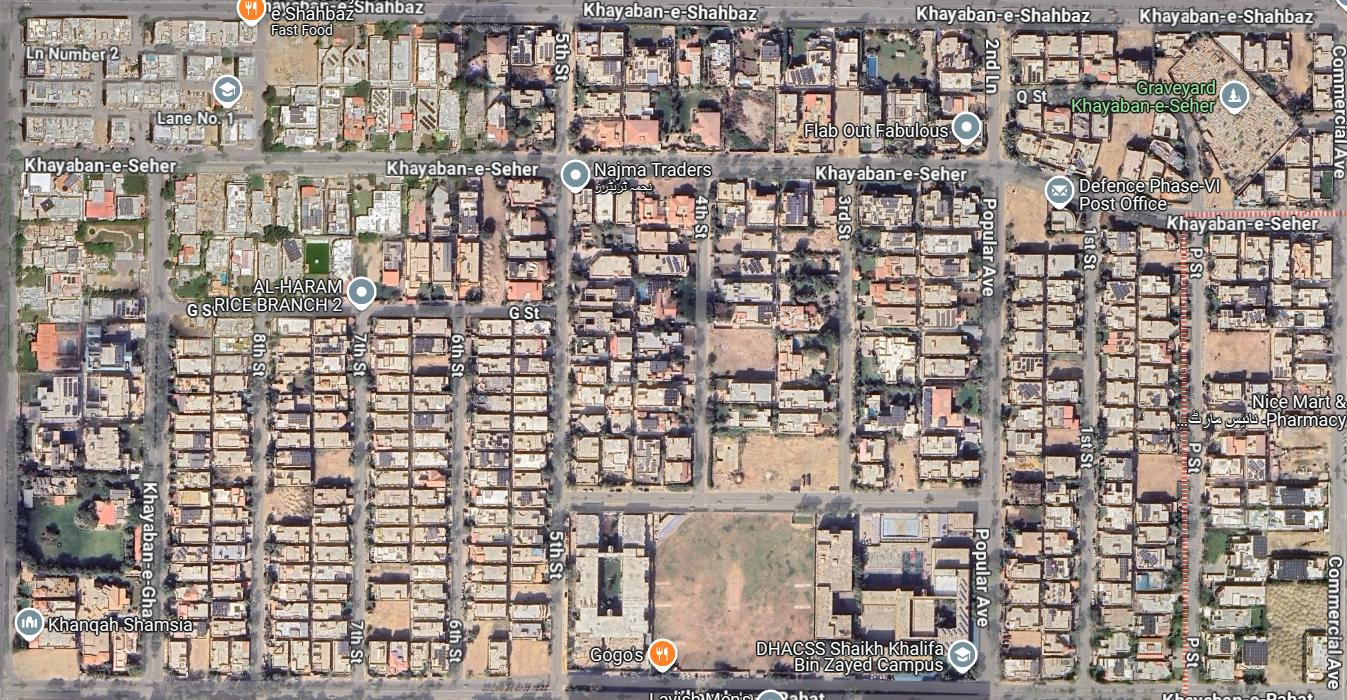Buildings: (21, 22, 556, 150), (563, 512, 974, 677), (16, 170, 148, 673), (1002, 29, 1334, 211), (566, 25, 990, 162), (169, 177, 554, 303), (1093, 212, 1188, 679), (708, 184, 842, 491), (569, 180, 696, 488), (1005, 182, 1083, 683), (853, 185, 980, 487), (262, 319, 356, 677), (170, 319, 256, 675), (367, 315, 451, 678), (466, 320, 549, 675)
